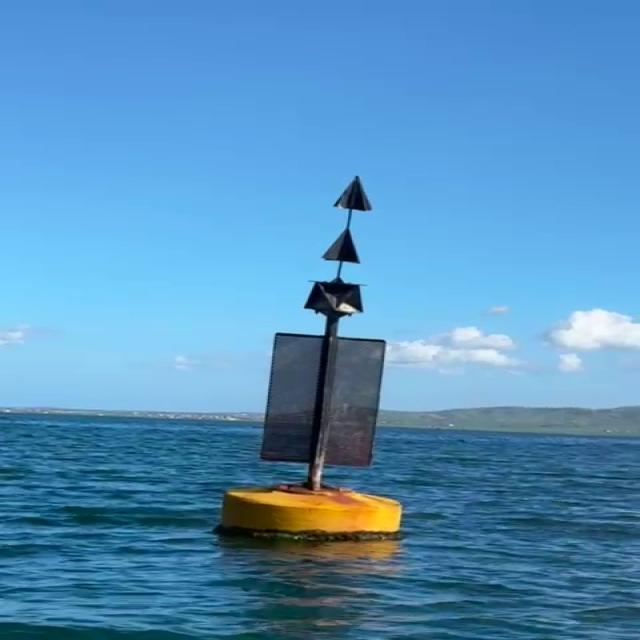marque: (213, 173, 417, 549)
